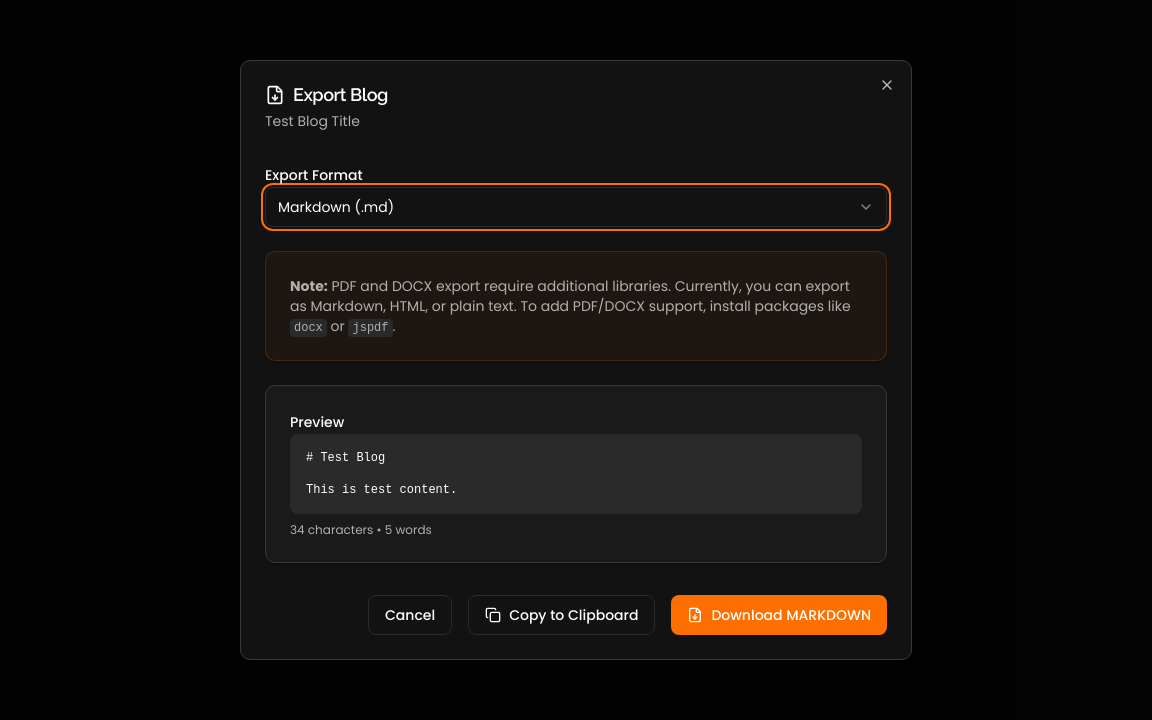
BlogExport › shows success icon after copying
Click the button "Copy to Clipboard": click(562, 615) [468,595,655,635]
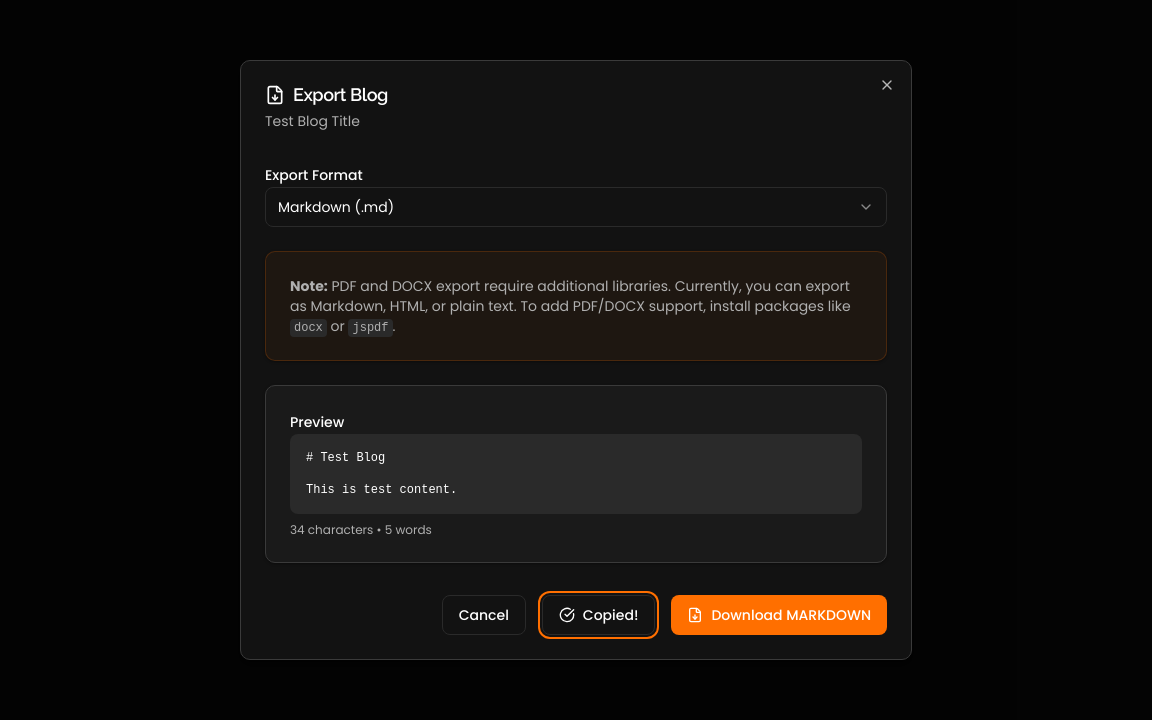
Result: the button "Copied!" is shown at [542,595,656,635]
